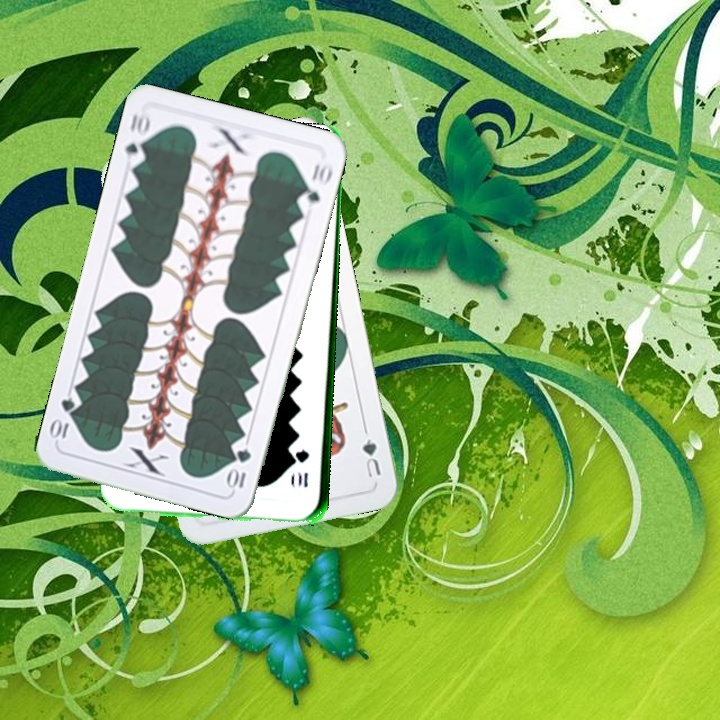G10: (121, 108, 153, 168), (225, 444, 254, 493), (294, 446, 312, 490)
GU: (358, 434, 384, 481)
